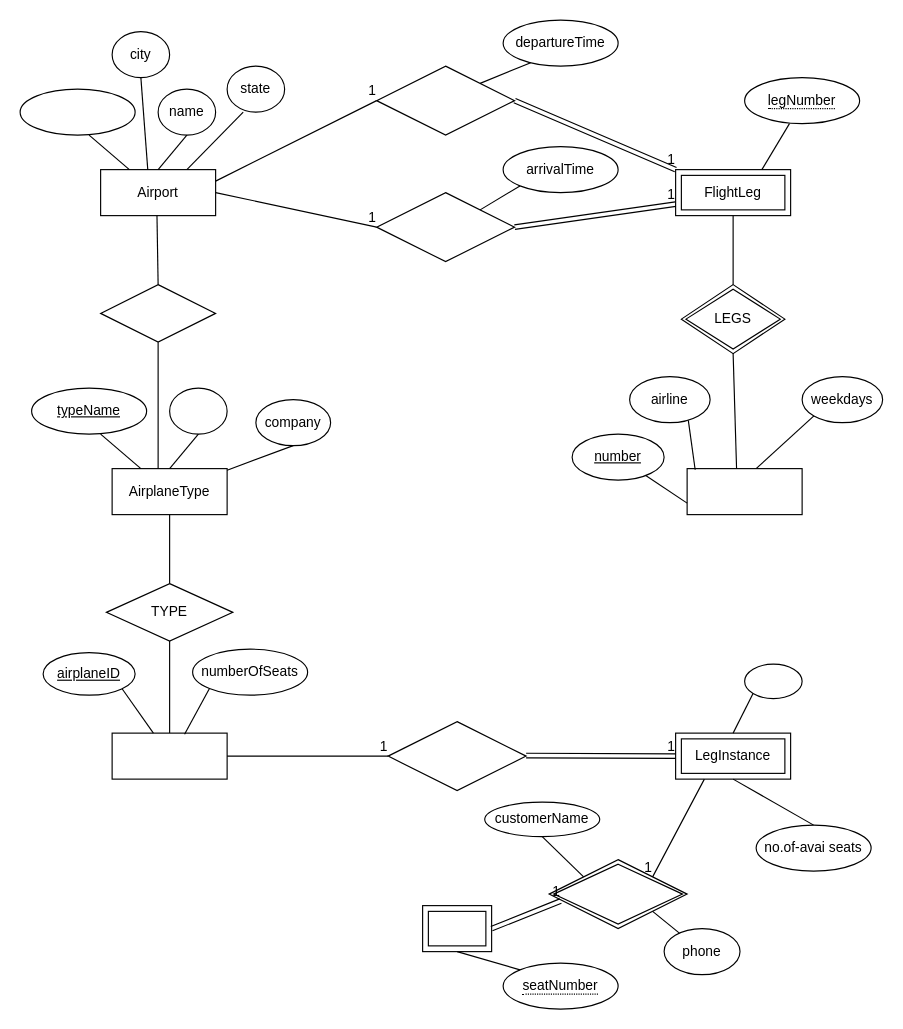
Some shapes in this 903 by 1029 pixel diagram are drawn without their labels. Each missing label, with the centre of its shape:
Airplane: point (169, 755)
airportCode: point (77, 111)
ArrivalAirport: point (445, 226)
Assigned: point (456, 755)
CAN LAND: point (157, 312)
date: point (772, 681)
DepartureAirport: point (445, 100)
Flight: point (744, 491)
max-seats: point (197, 410)
Reservation: point (617, 893)
Seat: point (456, 928)
